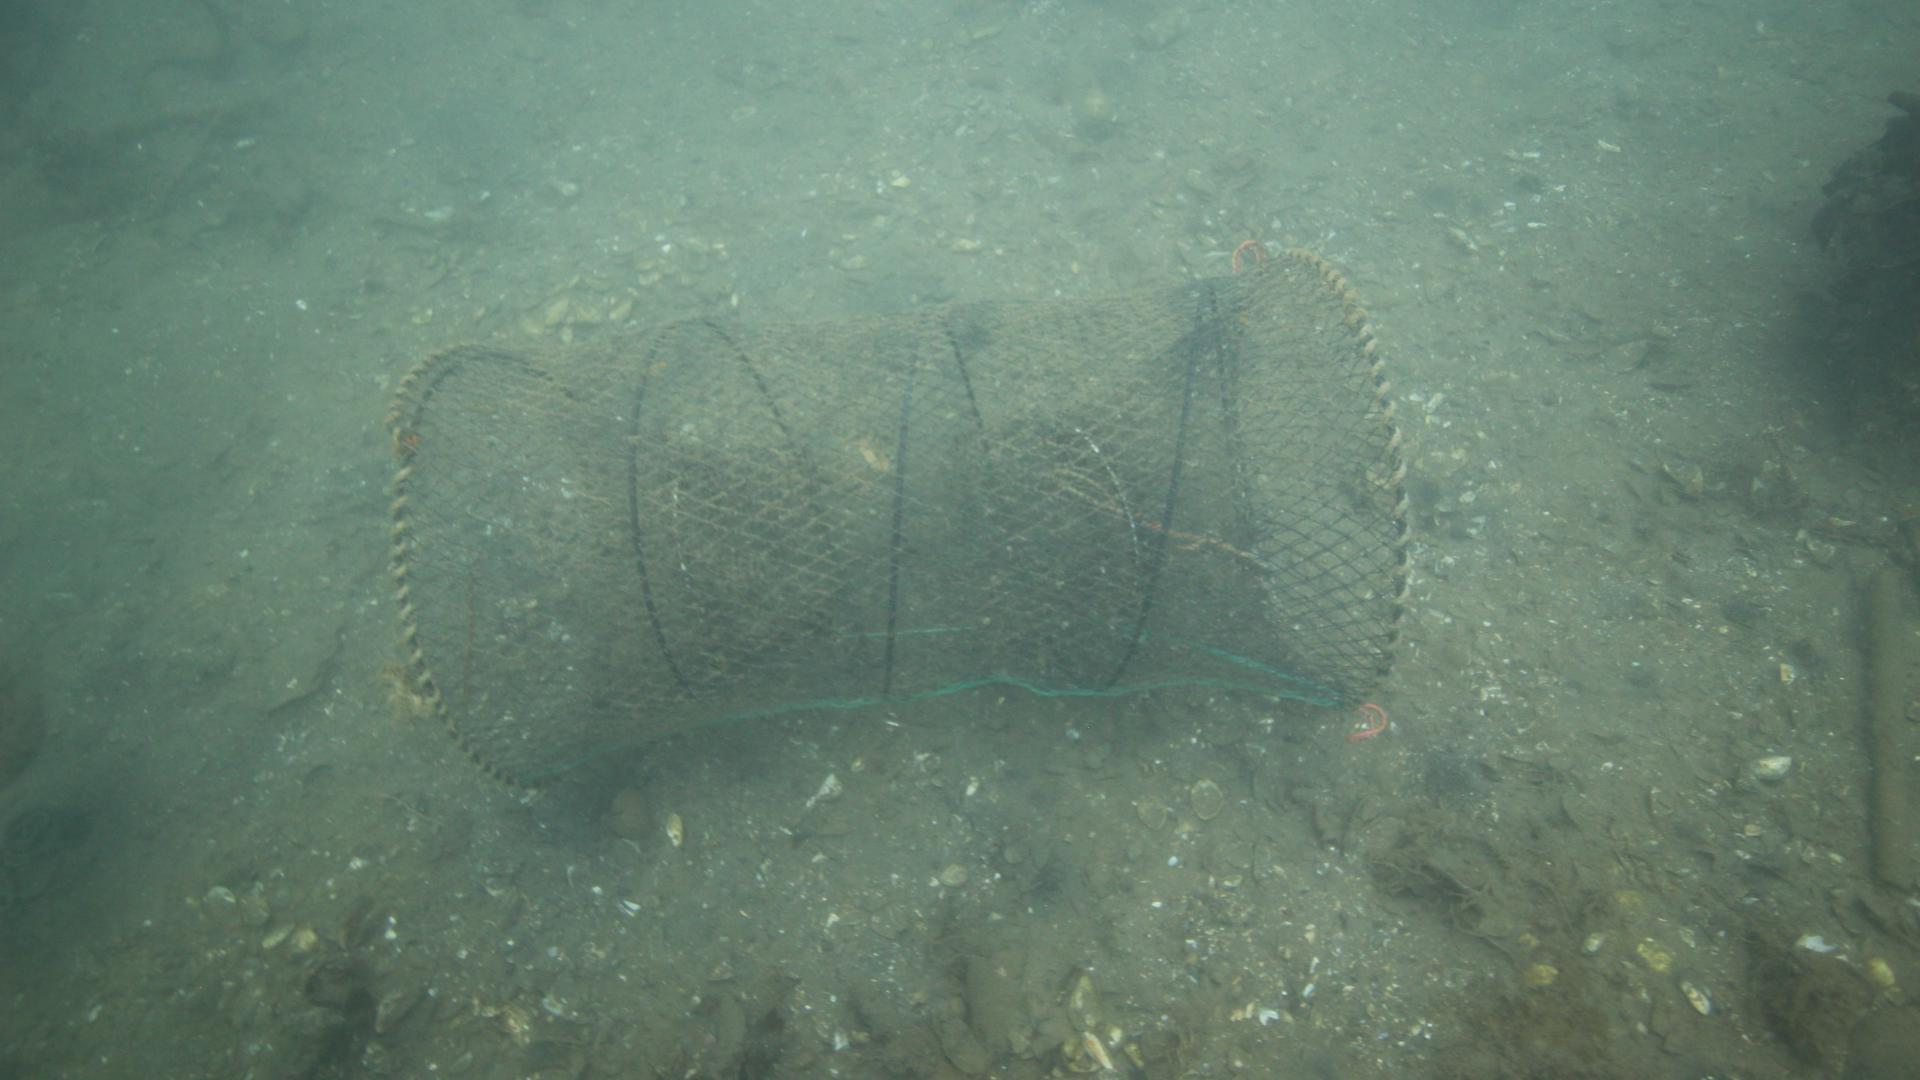spring fish trap: (377, 248, 1414, 795)
